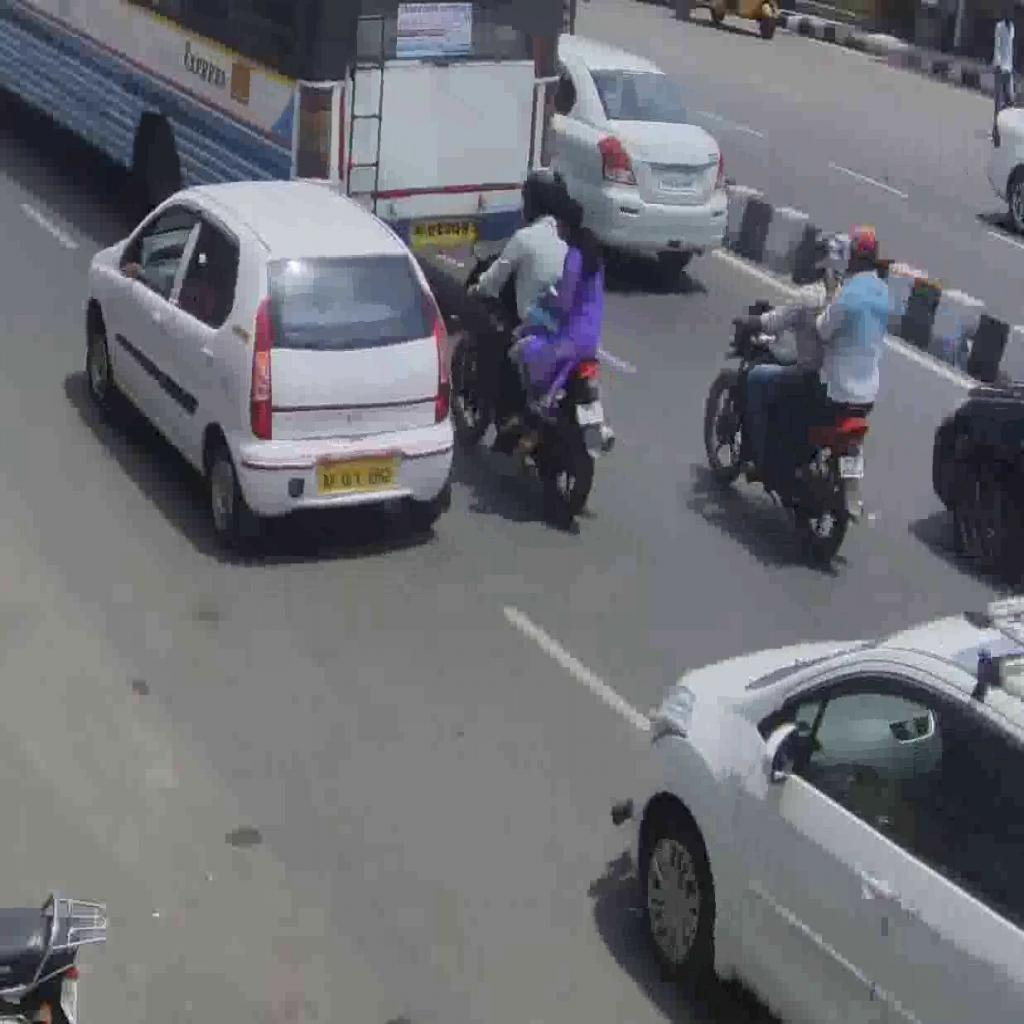helmet: (449, 256, 618, 526), (702, 298, 868, 558)
